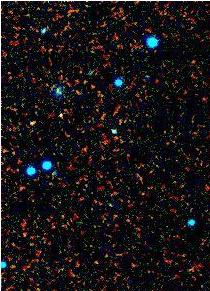star: (17, 109, 47, 139)
